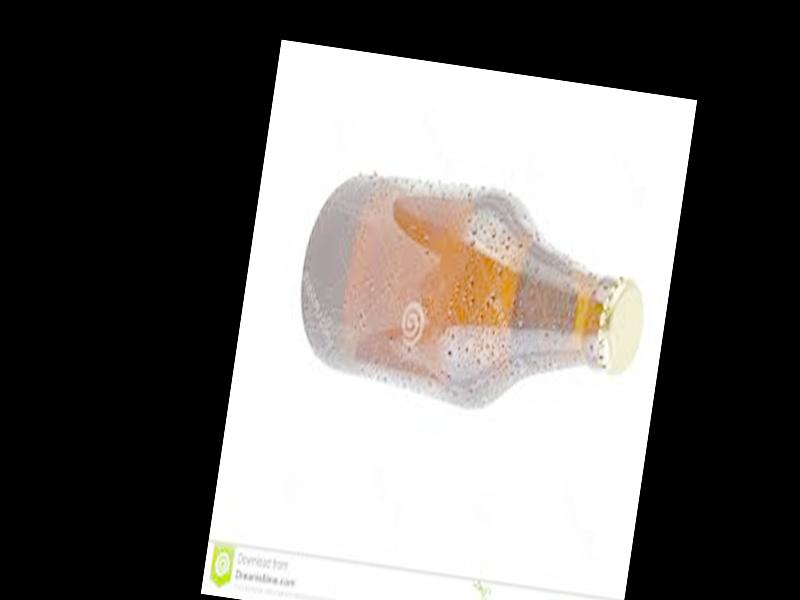Beer: (288, 162, 657, 430)
